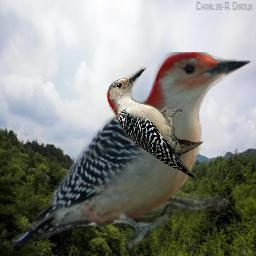Woodpecker: (12, 52, 256, 249), (106, 67, 204, 180)
